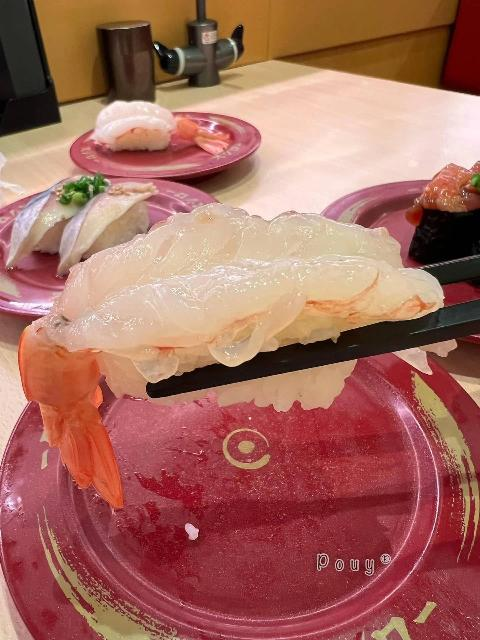janred: (64, 300, 480, 640), (8, 168, 210, 304), (37, 103, 264, 193), (343, 203, 480, 347)
